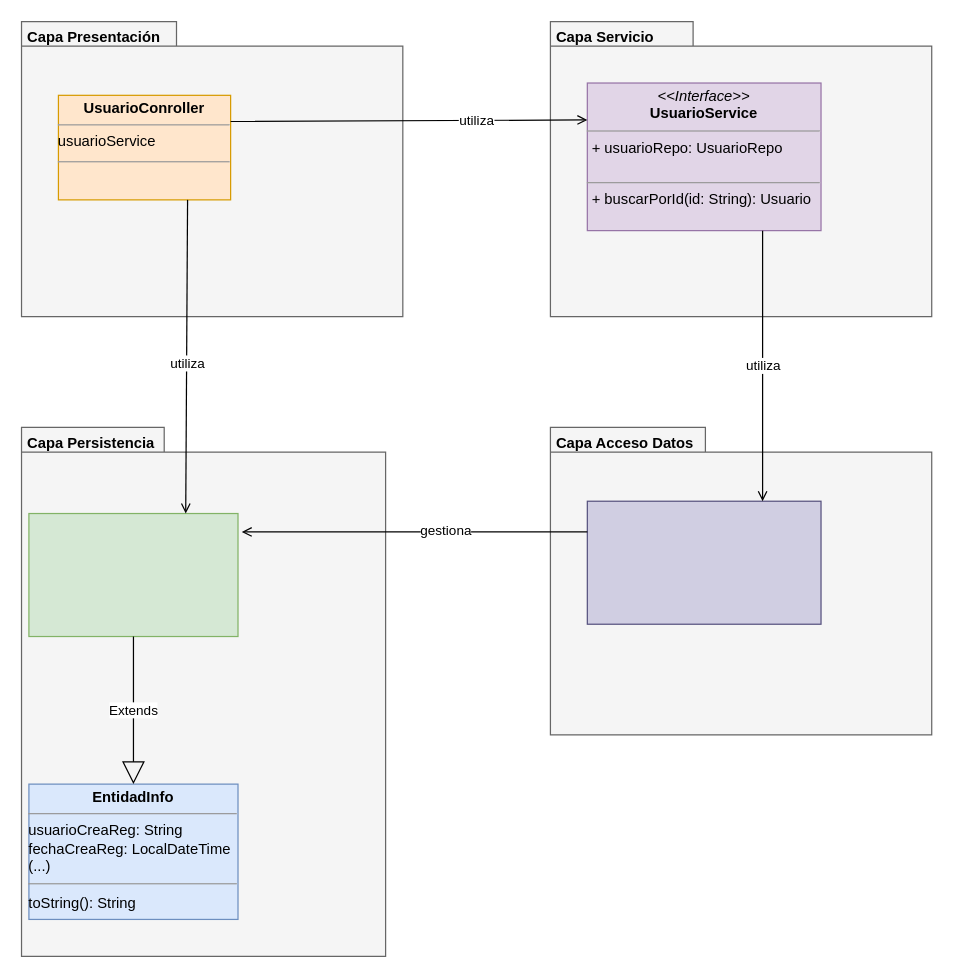
This 953x978 diagram has some shape labels left out. The shapes that lost their labels are listed below. From the top down, each one's centre as x and y in pixels, then its label:
At (133,574): "Usuario id: String nombre: String Usuario (usuario: Usuario)".
At (703,562): "<<Interface>> UsuarioRepo + findById(id: String): Usuario".
